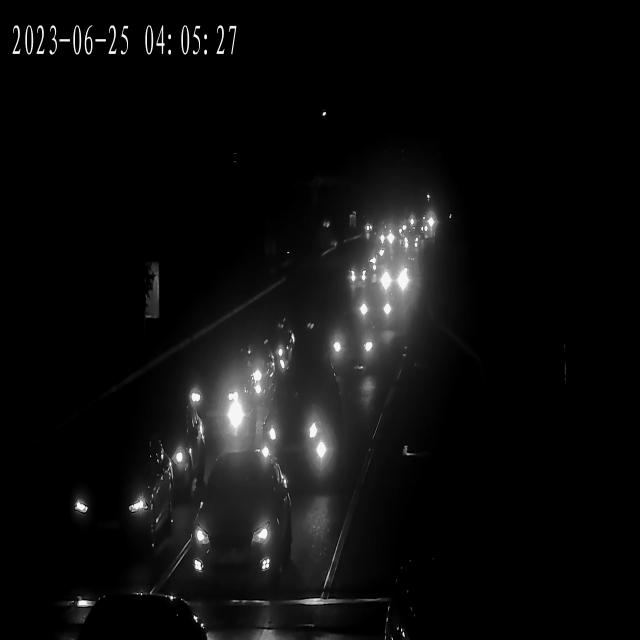Car: (60, 434, 176, 555), (180, 464, 290, 588), (253, 378, 348, 492), (181, 368, 254, 465), (132, 381, 195, 491), (69, 595, 207, 640), (220, 342, 281, 434), (311, 316, 379, 375), (251, 308, 298, 388), (353, 293, 393, 327), (378, 265, 412, 294), (346, 265, 374, 289), (373, 227, 395, 247), (403, 230, 423, 250), (377, 229, 398, 247), (402, 235, 422, 253), (412, 218, 434, 234)
